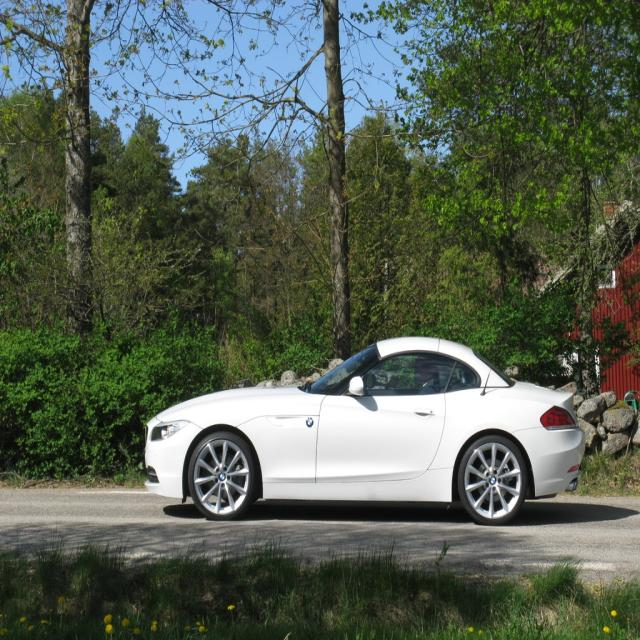car: (145, 332, 585, 522)
